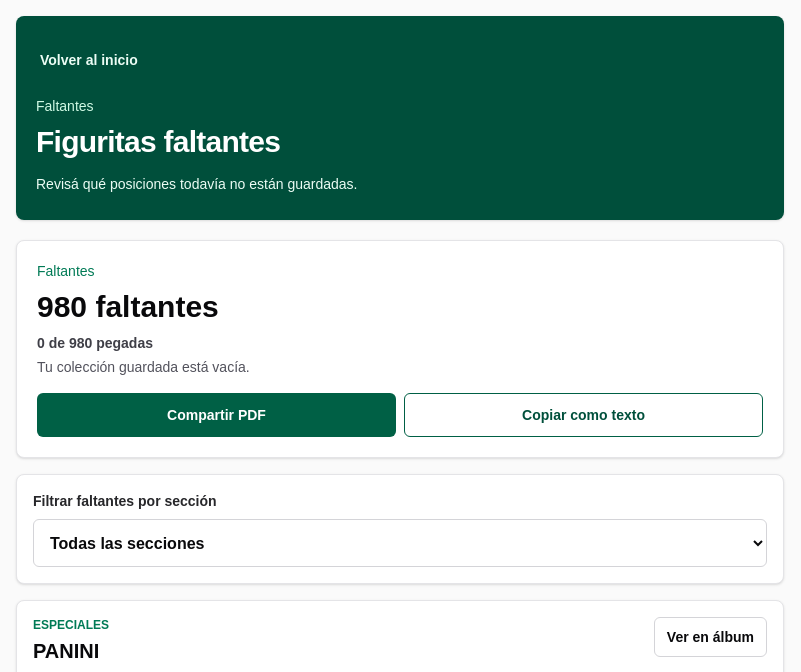
CollectionViews missing › disables duplicate copy execution and shows copying state
Expected: the heading "980 faltantes" is shown, [37,290,219,323]
Click the button "Copiar como texto" at (584, 415), box [404,393,763,437]
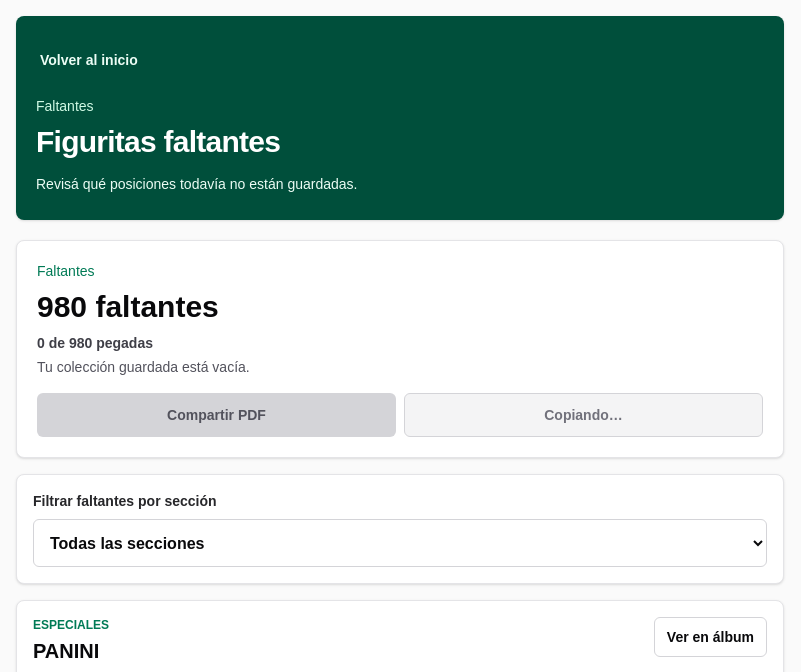
Expected: the button "Copiando…" is shown
Expected: the button "Copiando…" is disabled
Expected: the button "Compartir PDF" is disabled, [37,393,396,437]
Click the button "Copiando…" at (584, 415), box [404,393,763,437]
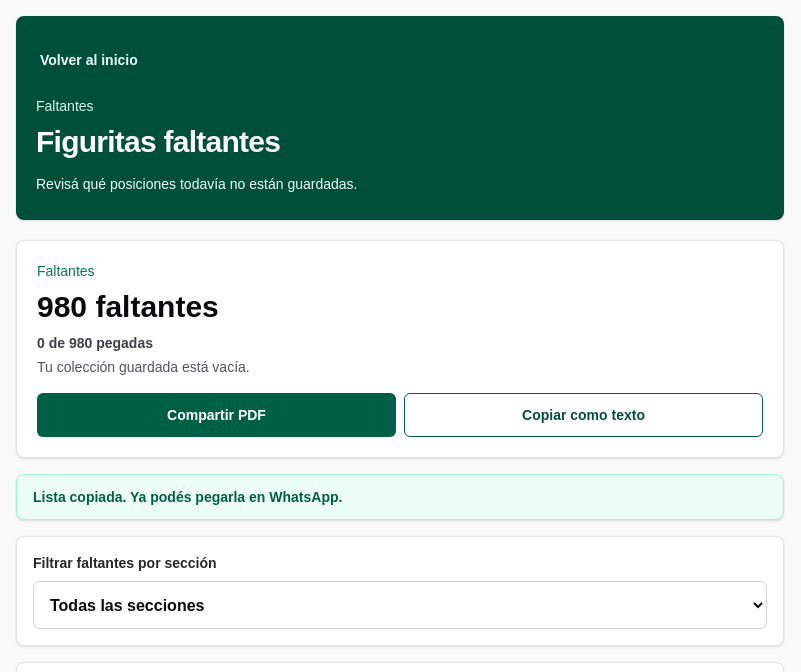
Expected: the button "Copiar como texto" is shown, [404,393,763,437]
